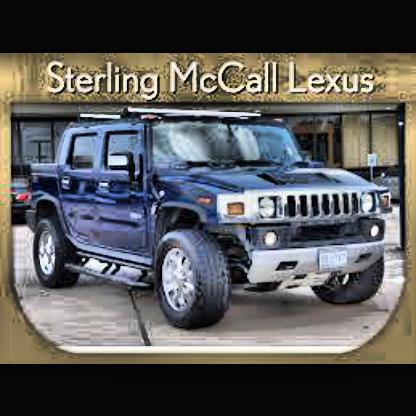HUMMER H2 SUT Crew Cab 2009: (31, 109, 389, 332)
